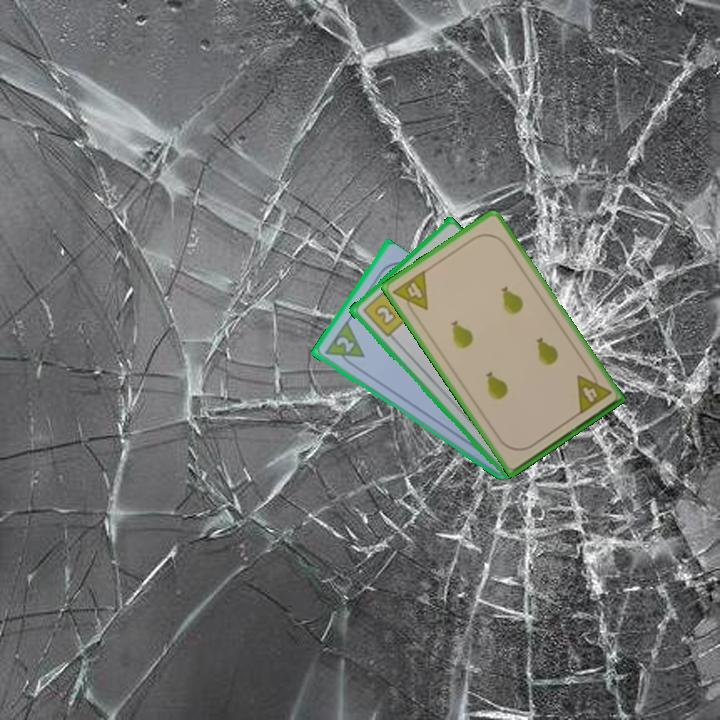2b: (359, 285, 410, 340)
2p: (332, 333, 357, 355)
4p: (389, 266, 431, 320), (573, 365, 614, 417)
